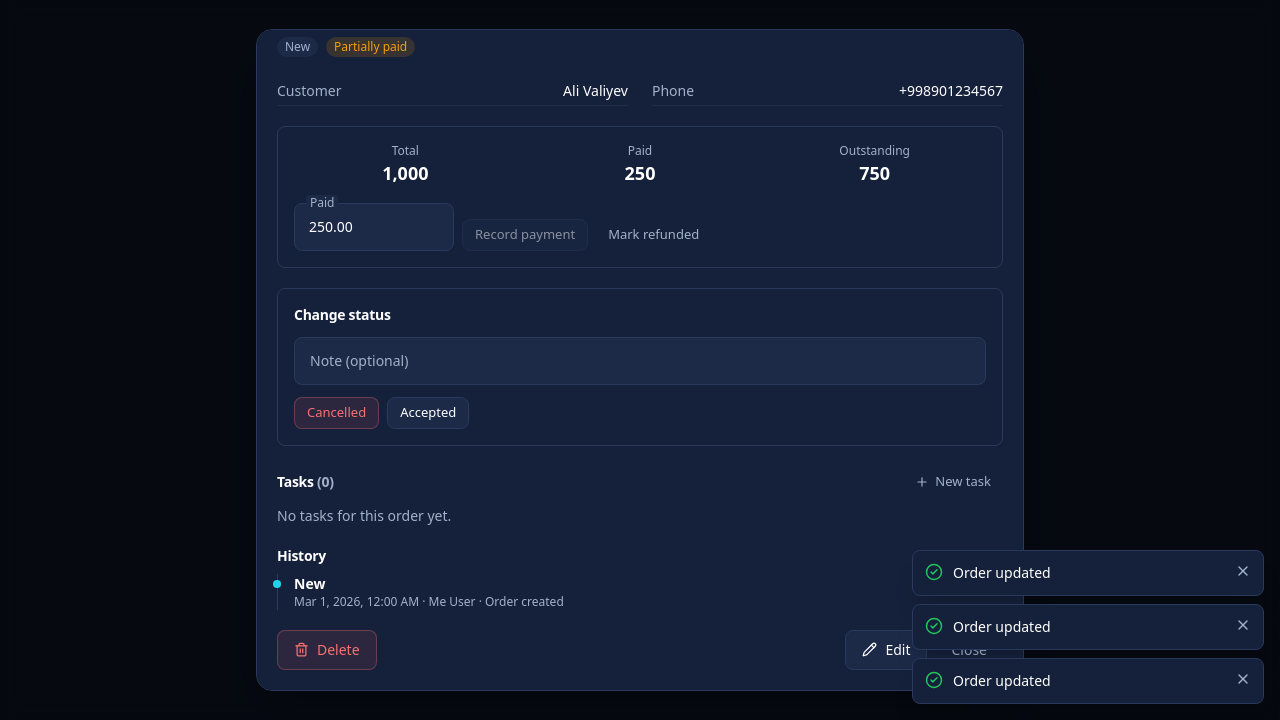
Test: OrderModal › deleting asks first and shows the server's reason when the order must be kept
The width and height of the screenshot is (1280, 720).
(page scrolled)
Click the button "Delete".
click(327, 650)  # box [277,630,377,670]
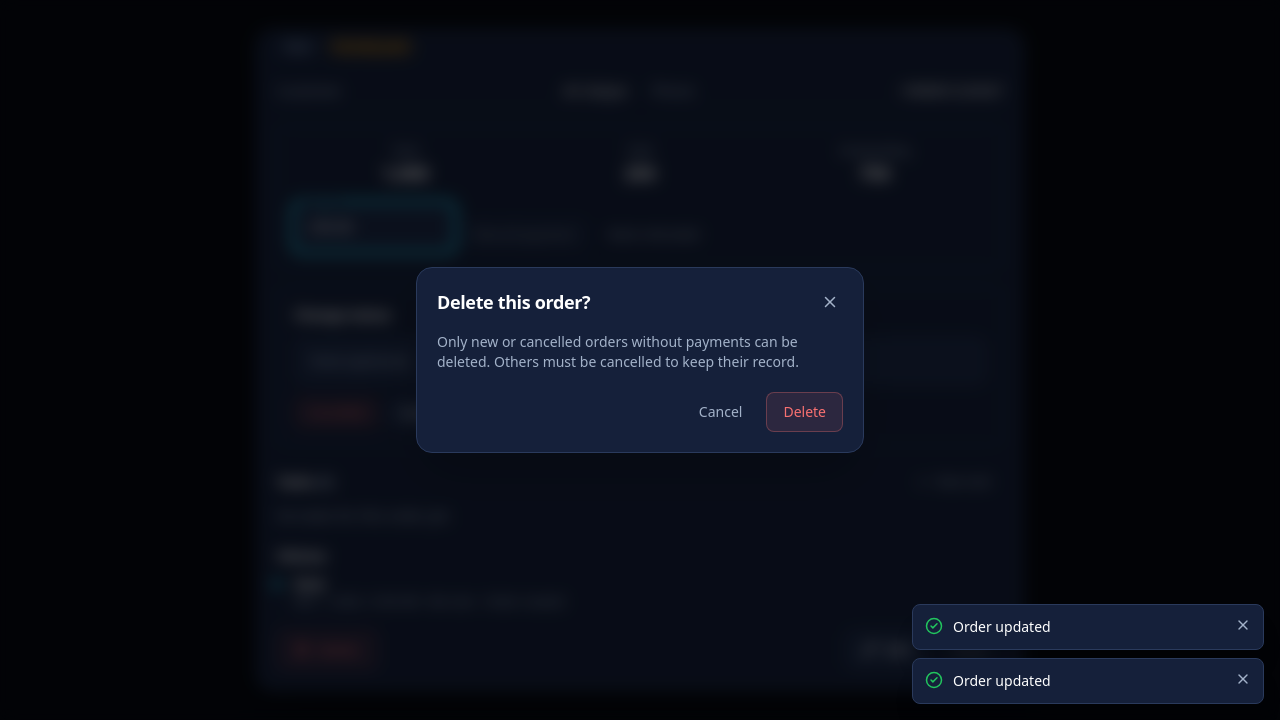
Click the button "Delete".
click(805, 412)  # box [766,392,843,432]
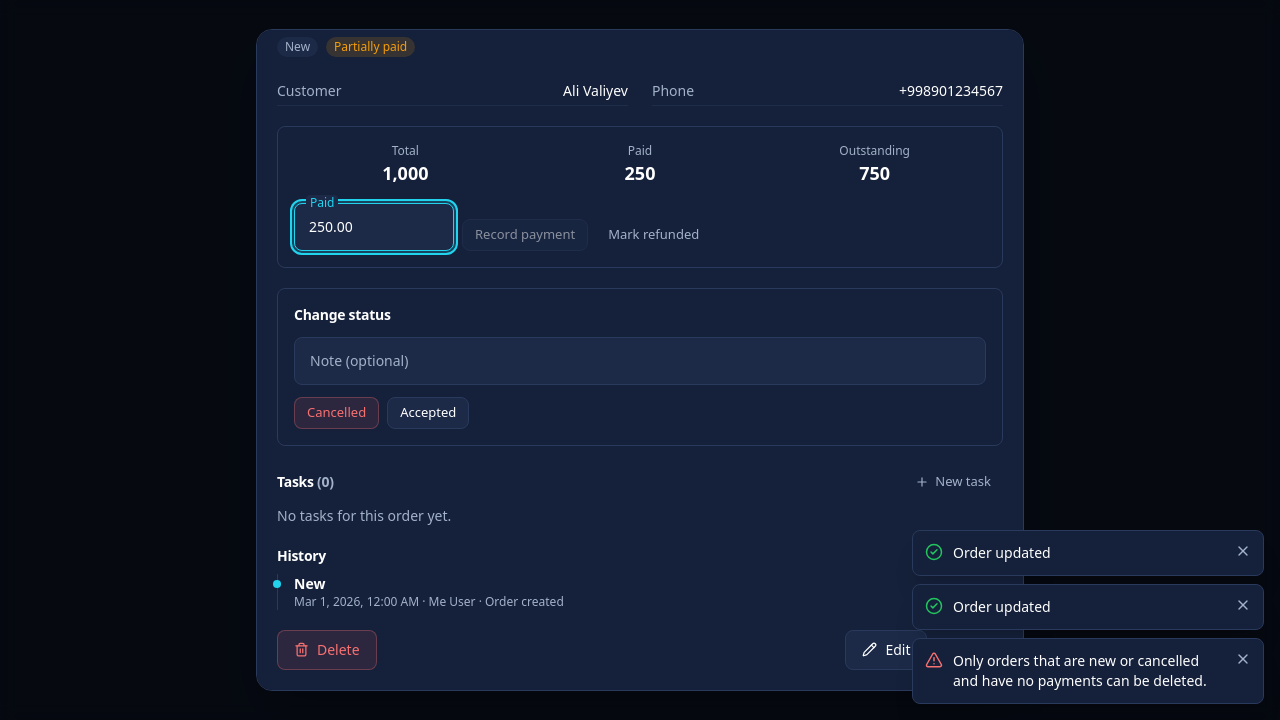
Expected: the text "have no payments can be deleted" is shown, [953,651,1207,690]
